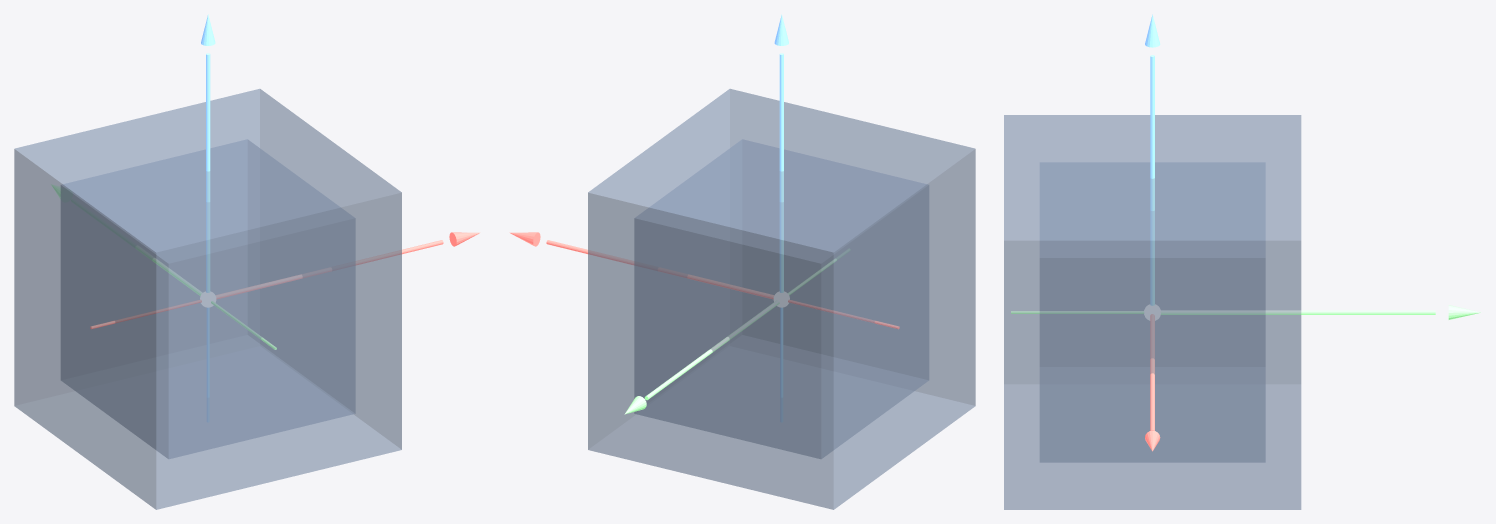
The model's file is shell.glb.
3 renders of one model, left to right at view 1: azimuth 30°, elevation 25°; view 2: azimuth 150°, elevation 25°; view 3: azimuth 270°, elevation 25°, orthographic. The views are drawn at different scales.
Visible parts, largest first — view 1: shell_render, axis_Z_shaft, axis_X_shaft; view 2: shell_render, axis_Z_shaft, axis_X_shaft, axis_Y_shaft; view 3: shell_render, axis_Y_shaft, axis_Z_shaft, axis_X_shaft.
Boxes of the visible parts, x1,y1,x2,y2 form: shell_render: [14, 89, 401, 509]; axis_Z_shaft: [206, 53, 210, 292]; axis_X_shaft: [216, 240, 443, 298]; shell_render: [588, 89, 975, 509]; axis_Z_shaft: [779, 53, 783, 292]; axis_X_shaft: [546, 240, 773, 298]; axis_Y_shaft: [644, 300, 779, 400]; shell_render: [1004, 115, 1301, 509]; axis_Y_shaft: [1161, 310, 1435, 314]; axis_Z_shaft: [1150, 55, 1154, 305]; axis_X_shaft: [1150, 314, 1154, 430].
Size of what is drawn, in the model's own units: 1.61 by 1.61 by 1.61.
